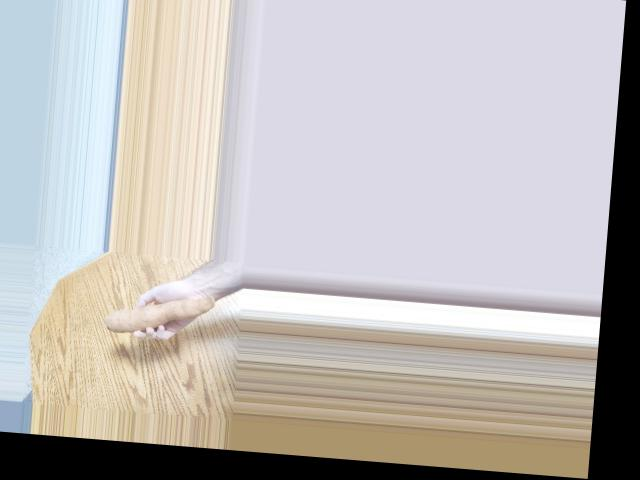sweet_potato: (108, 293, 209, 342)
